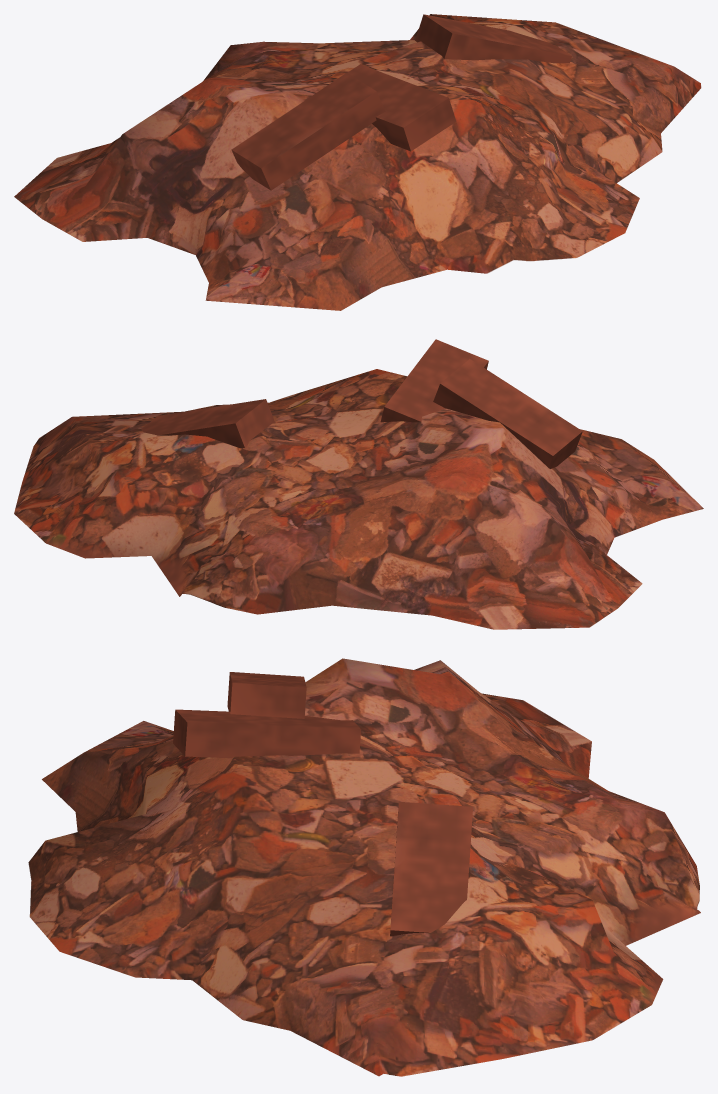
Rendered from dirt.fbx.
The picture shows the model from 3 angles, top to bottom: view 1: azimuth 30°, elevation 25°; view 2: azimuth 150°, elevation 25°; view 3: azimuth 270°, elevation 25°; orthographic projection. The views are drawn at different scales.
Visible parts, largest first — view 1: polySurface1; view 2: polySurface1; view 3: polySurface1.
Part boxes in pixels (left/top/right/bottom): polySurface1: left=14, top=14, right=701, bottom=310; polySurface1: left=14, top=339, right=703, bottom=629; polySurface1: left=28, top=658, right=700, bottom=1076.
Bounding box in the file's own units: 2.12 × 0.4308 × 1.64.
